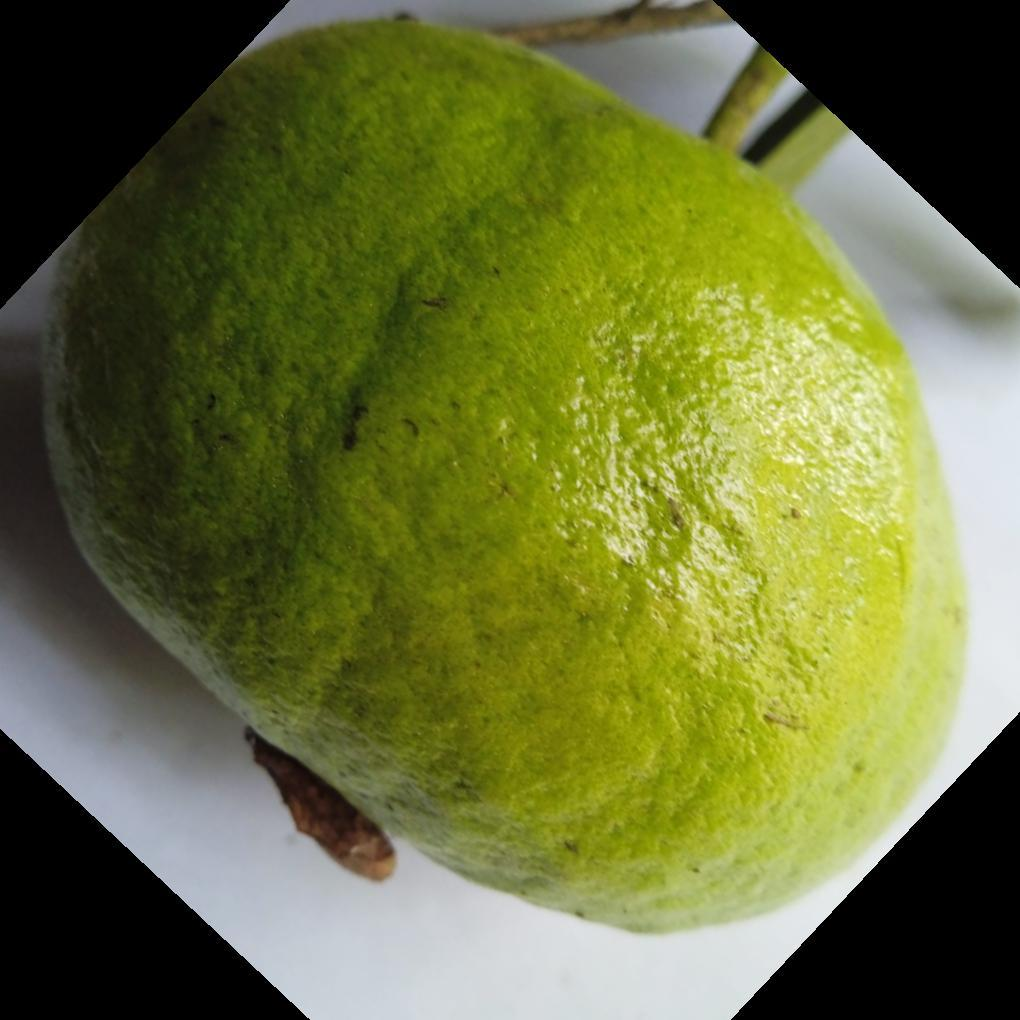FreshGuava: (39, 17, 972, 938)
